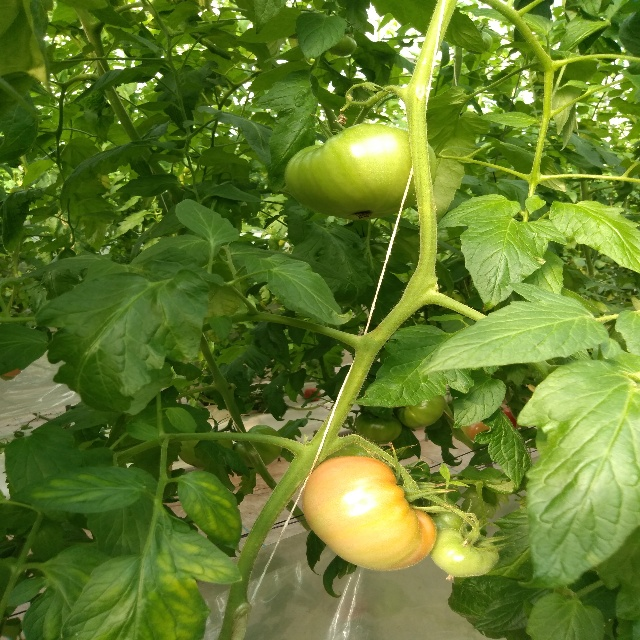b_green: (283, 122, 438, 220), (430, 528, 499, 577), (403, 488, 466, 532), (232, 424, 284, 468), (396, 395, 445, 428), (355, 412, 402, 443)
b_half_ripened: (302, 455, 438, 572)
